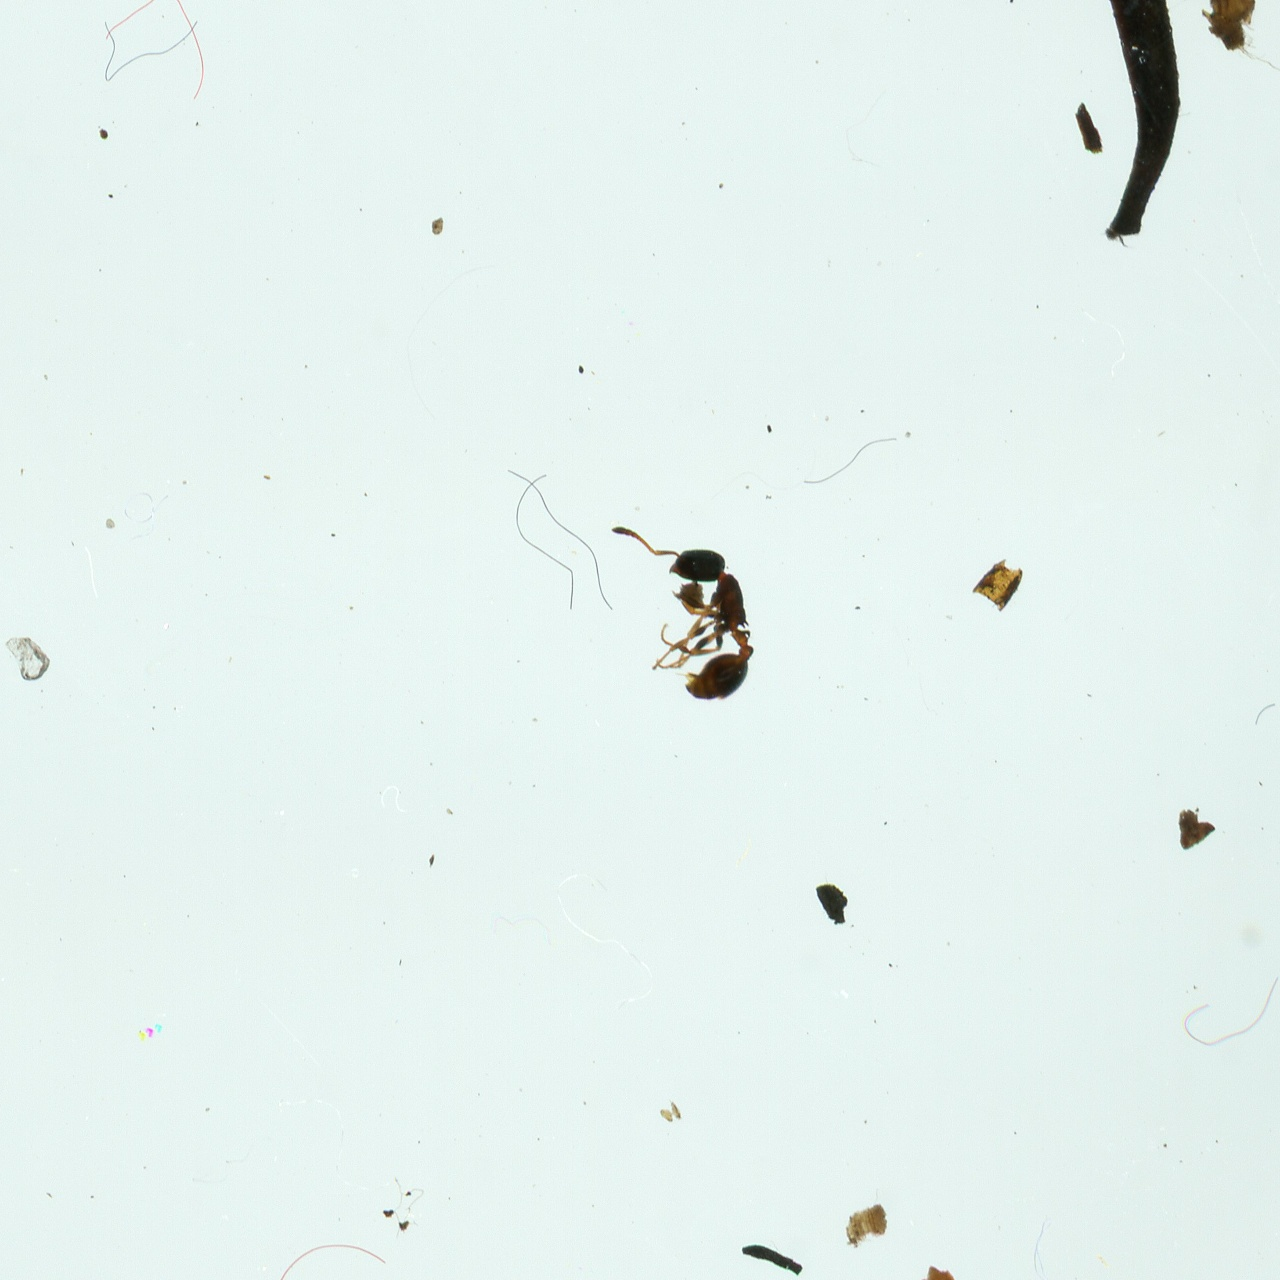arthropod: (602, 520, 763, 709)
